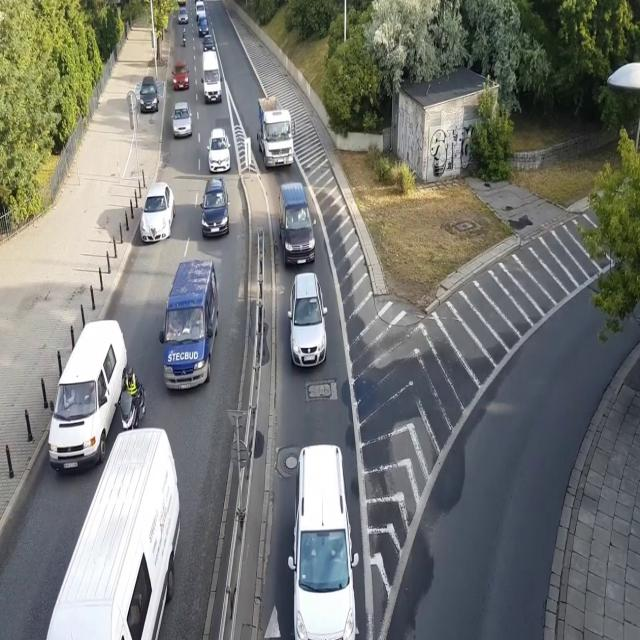car: (289, 271, 328, 370), (140, 180, 175, 248), (199, 177, 231, 240), (206, 127, 232, 175), (138, 75, 160, 113), (171, 100, 192, 138), (172, 59, 190, 90), (202, 34, 216, 54), (198, 15, 210, 37), (178, 7, 189, 24), (195, 3, 206, 18)
motorcycle: (114, 366, 146, 436), (182, 26, 188, 46)
truck: (257, 94, 297, 172)
van: (45, 428, 181, 640), (286, 444, 359, 640), (48, 318, 129, 478), (159, 259, 220, 392), (277, 180, 318, 270), (200, 48, 224, 107)
